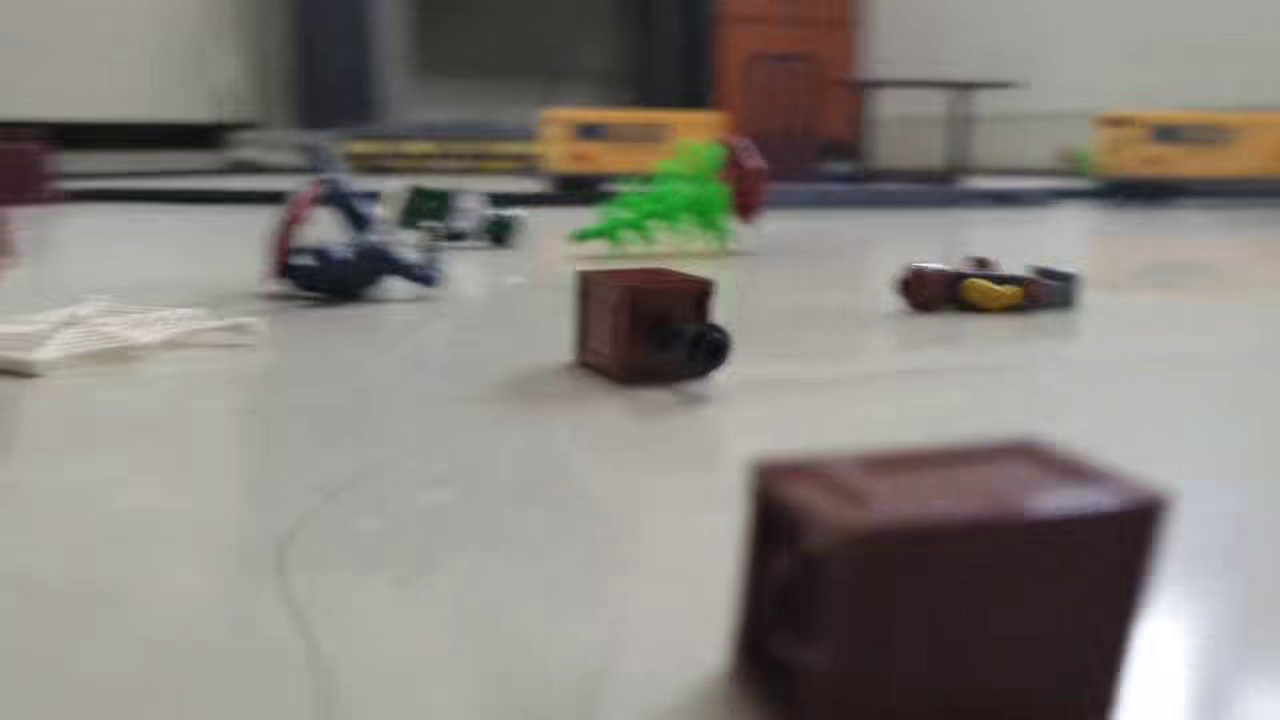box: (733, 418, 1168, 720), (570, 262, 730, 392)
people: (263, 132, 447, 304), (889, 251, 1084, 318), (372, 177, 524, 248)
tree: (565, 128, 774, 252)
web: (1, 294, 259, 383)
